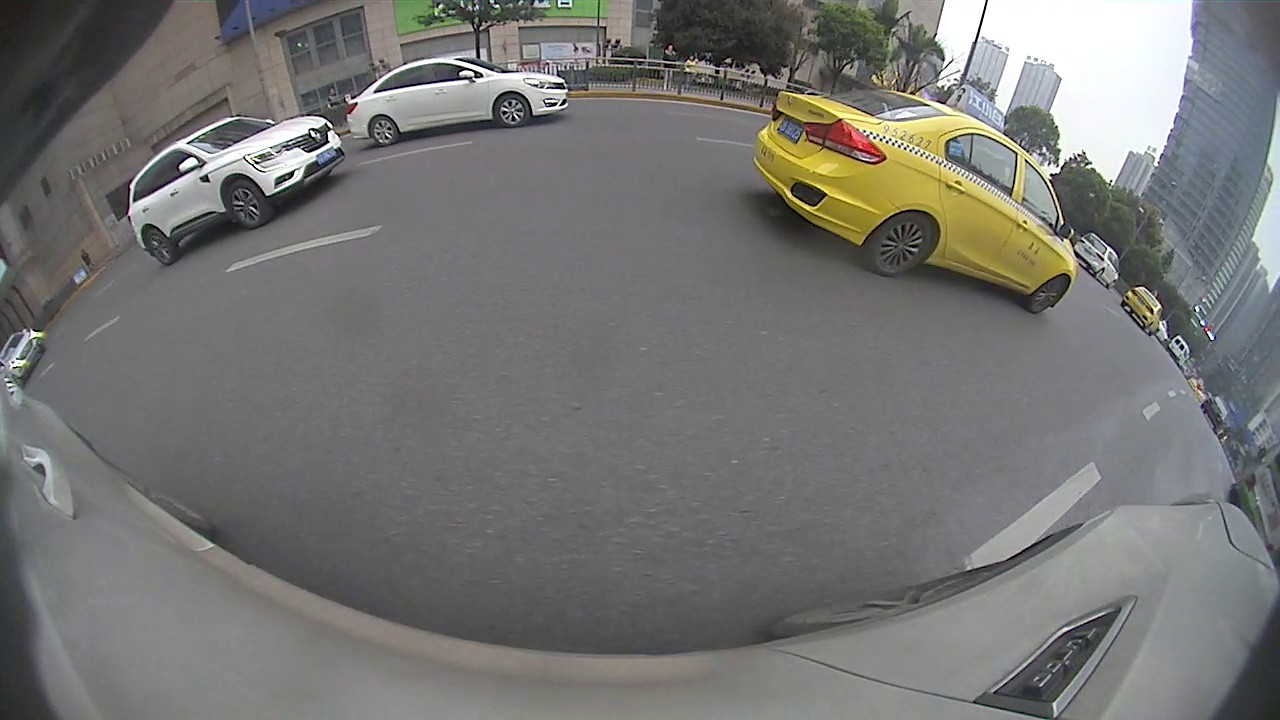car: (751, 87, 1080, 316), (124, 113, 347, 268), (343, 54, 571, 148), (1072, 230, 1122, 289), (1124, 273, 1165, 338)
front: (224, 179, 268, 228), (1029, 273, 1070, 314), (489, 93, 530, 127)
rear: (865, 207, 937, 275), (141, 226, 180, 267), (370, 115, 401, 148)
